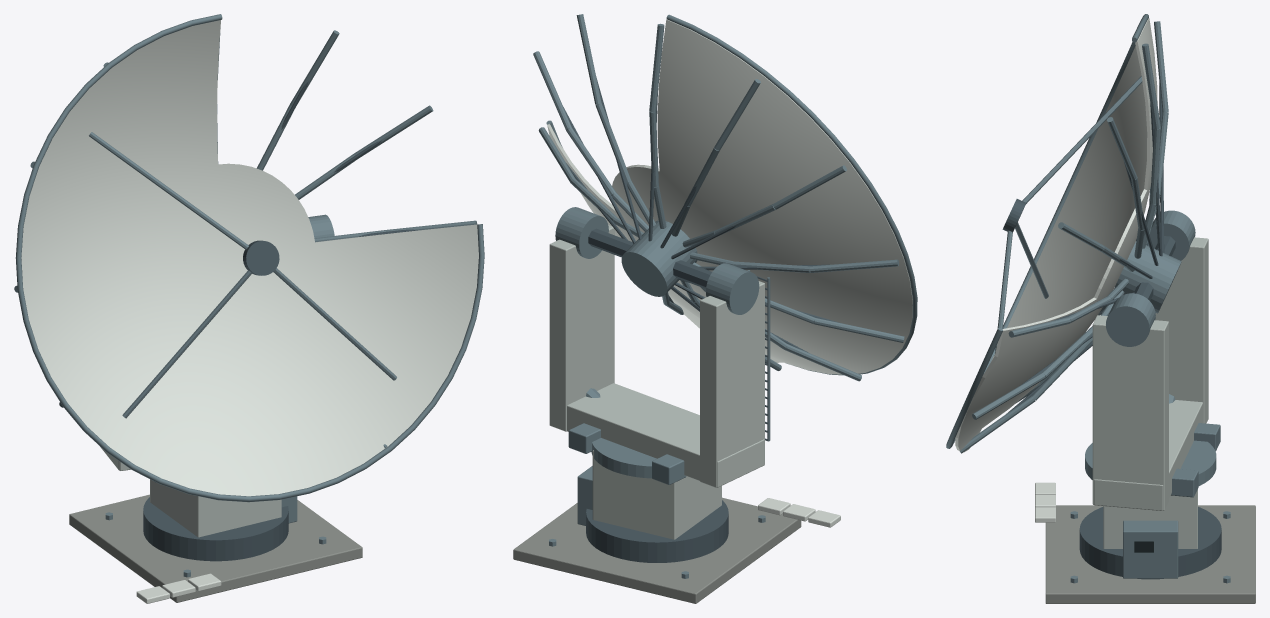
Rendered from skyward_medium_d2.glb.
3 views of the same model, side by side, from view 1: azimuth 30°, elevation 25°; view 2: azimuth 150°, elevation 25°; view 3: azimuth 270°, elevation 25° (orthographic). The views are drawn at different scales.
Visible parts, largest first — view 1: REFLECTOR_SURFACE.006, Geometry_ELEVATION.006_Structural frame / blue steel, Concrete octagonal pad.006, Foundation bearing.006, Pedestal.006, Geometry_ELEVATION.006_Edge metal / graphite, Geometry_ROOT.006_Reflector / warm ceramic; view 2: REFLECTOR_SURFACE.006, Geometry_AZIMUTH.006_Ceramic armor / limestone, Geometry_ELEVATION.006_Structural frame / blue steel, Concrete octagonal pad.006, Geometry_AZIMUTH.006_Structural frame / blue steel, Pedestal.006, Foundation bearing.006, Geometry_ELEVATION.006_Edge metal / graphite, Geometry_ROOT.006_Reflector / warm ceramic, Geometry_ROOT.006_Structural frame / blue steel; view 3: REFLECTOR_SURFACE.006, Geometry_AZIMUTH.006_Ceramic armor / limestone, Geometry_ELEVATION.006_Structural frame / blue steel, Concrete octagonal pad.006, Geometry_AZIMUTH.006_Structural frame / blue steel, Foundation bearing.006, Geometry_ROOT.006_Structural frame / blue steel, Pedestal.006, Geometry_ELEVATION.006_Edge metal / graphite, Geometry_ROOT.006_Reflector / warm ceramic.
Part boxes in pixels (bbox=[...]): REFLECTOR_SURFACE.006: bbox=[21, 20, 478, 496]; Geometry_ELEVATION.006_Structural frame / blue steel: bbox=[14, 14, 484, 502]; Concrete octagonal pad.006: bbox=[69, 494, 362, 602]; Foundation bearing.006: bbox=[143, 497, 288, 561]; Pedestal.006: bbox=[150, 479, 281, 537]; Geometry_ELEVATION.006_Edge metal / graphite: bbox=[243, 81, 417, 275]; Geometry_ROOT.006_Reflector / warm ceramic: bbox=[136, 573, 221, 603]; REFLECTOR_SURFACE.006: bbox=[547, 19, 912, 374]; Geometry_AZIMUTH.006_Ceramic armor / limestone: bbox=[549, 225, 764, 487]; Geometry_ELEVATION.006_Structural frame / blue steel: bbox=[533, 14, 917, 381]; Concrete octagonal pad.006: bbox=[513, 497, 801, 603]; Geometry_AZIMUTH.006_Structural frame / blue steel: bbox=[555, 207, 770, 484]; Pedestal.006: bbox=[592, 450, 721, 539]; Foundation bearing.006: bbox=[586, 500, 728, 562]; Geometry_ELEVATION.006_Edge metal / graphite: bbox=[562, 77, 841, 352]; Geometry_ROOT.006_Reflector / warm ceramic: bbox=[758, 498, 840, 527]; Geometry_ROOT.006_Structural frame / blue steel: bbox=[549, 466, 765, 578]; REFLECTOR_SURFACE.006: bbox=[955, 18, 1157, 452]; Geometry_AZIMUTH.006_Ceramic armor / limestone: bbox=[1092, 237, 1208, 510]; Geometry_ELEVATION.006_Structural frame / blue steel: bbox=[946, 14, 1181, 453]; Concrete octagonal pad.006: bbox=[1045, 505, 1255, 603]; Geometry_AZIMUTH.006_Structural frame / blue steel: bbox=[1085, 210, 1220, 497]; Foundation bearing.006: bbox=[1079, 507, 1221, 579]; Geometry_ROOT.006_Structural frame / blue steel: bbox=[1070, 511, 1230, 583]; Pedestal.006: bbox=[1103, 489, 1197, 548]; Geometry_ELEVATION.006_Edge metal / graphite: bbox=[1002, 83, 1175, 413]; Geometry_ROOT.006_Reflector / warm ceramic: bbox=[1035, 482, 1055, 522].
Bounding box in the file's own units: 17.93 × 21.86 × 11.78.
